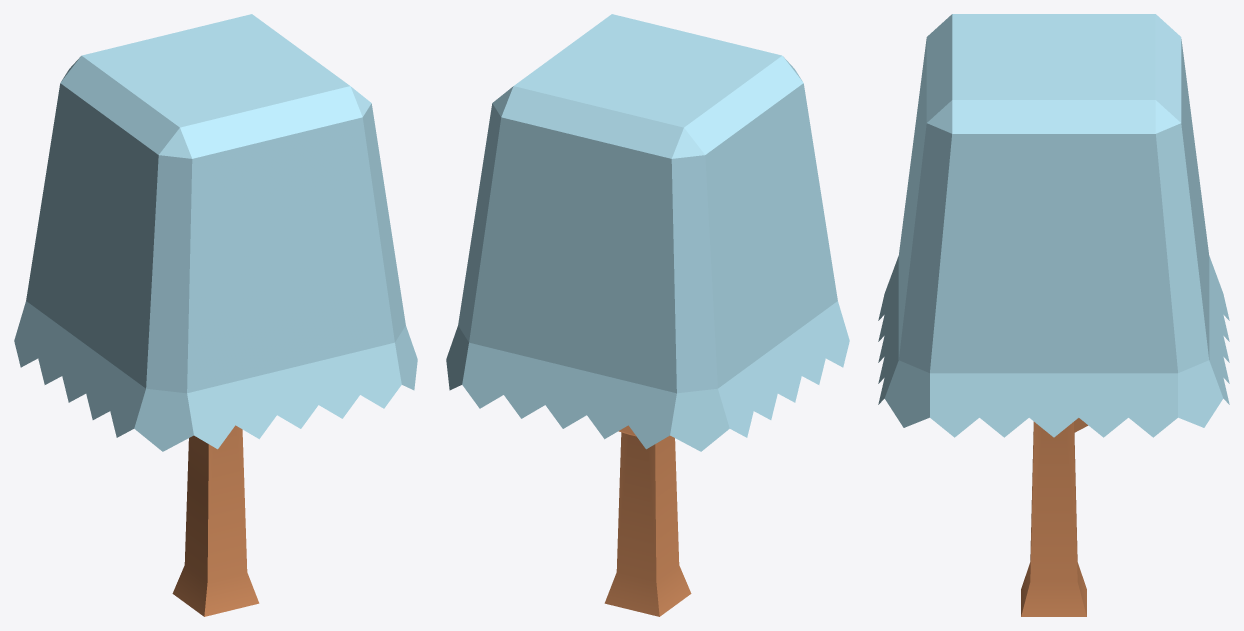
The model's file is treeSnow.dae.
3 renders of one model, left to right at view 1: azimuth 30°, elevation 25°; view 2: azimuth 150°, elevation 25°; view 3: azimuth 270°, elevation 25°, orthographic. The views are drawn at different scales.
Parts seen in each view (by area): view 1: treeSnow; view 2: treeSnow; view 3: treeSnow.
Boxes of the visible parts, x1,y1,x2,y2 form: treeSnow: (14,14,417,616); treeSnow: (446,14,849,616); treeSnow: (878,14,1229,616).
Size of the model in its own units: 1.13 by 1.94 by 1.13.
